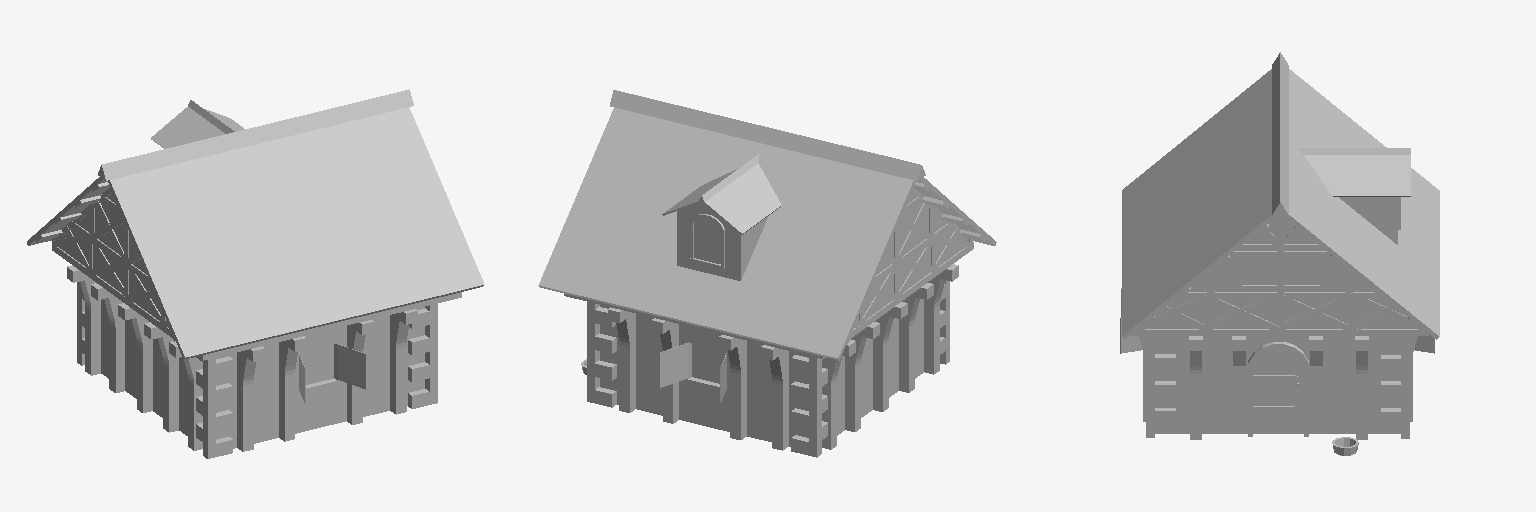
File: casa_2.obj
The picture shows the model from 3 angles: view 1: azimuth 30°, elevation 25°; view 2: azimuth 150°, elevation 25°; view 3: azimuth 270°, elevation 25°; orthographic projection.
Visible parts, largest first — view 1: Base_Casa; view 2: Base_Casa; view 3: Base_Casa.
Part boxes in pixels (x1,y1,x2,y2): Base_Casa: (27, 89, 484, 458); Base_Casa: (538, 90, 996, 457); Base_Casa: (1120, 52, 1439, 455).
Bounding box in the file's own units: 72 × 57.56 × 64.61.